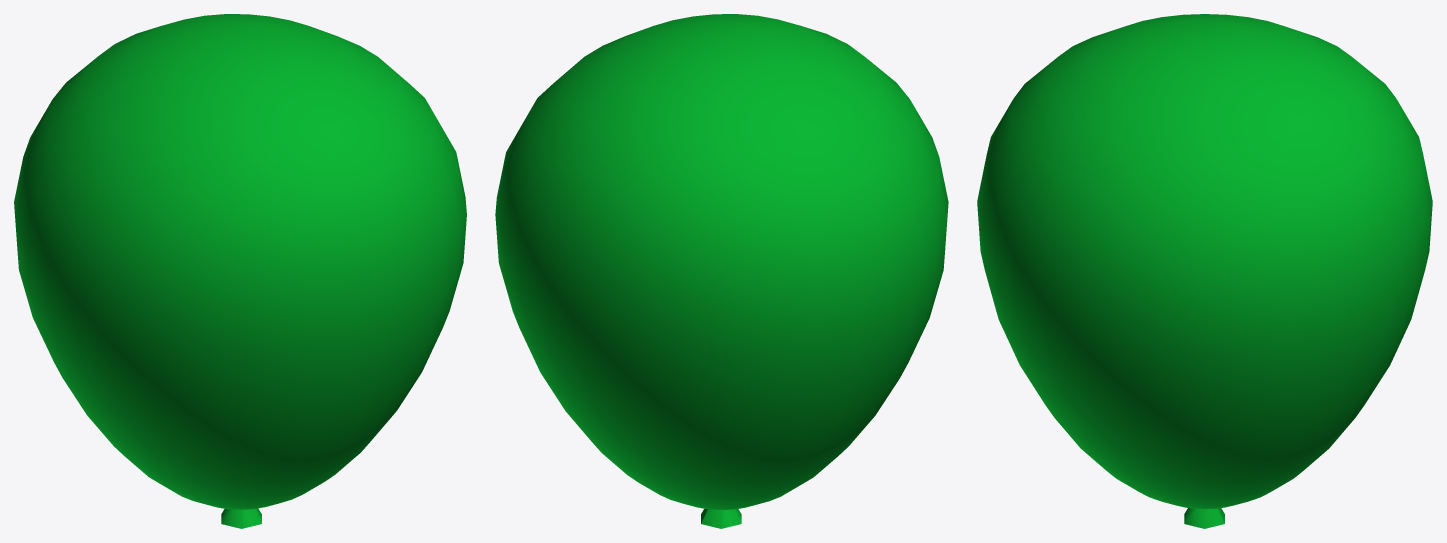
Rendered from balloongreen.FBX.
The picture shows the model from 3 angles, left to right: view 1: azimuth 30°, elevation 25°; view 2: azimuth 150°, elevation 25°; view 3: azimuth 270°, elevation 25°; orthographic projection.
Parts seen in each view (by area): view 1: Sphere001; view 2: Sphere001; view 3: Sphere001.
Part boxes in pixels (x1=…): Sphere001: x1=14, y1=14, x2=466, y2=528; Sphere001: x1=495, y1=14, x2=948, y2=528; Sphere001: x1=977, y1=14, x2=1432, y2=528.
Size of the model in its own units: 9.53 by 11.06 by 9.53.
